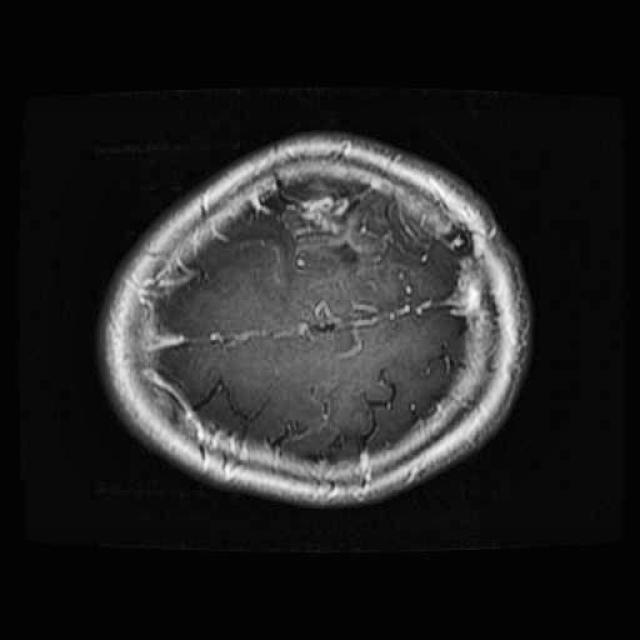Non-Tumor: (271, 165, 435, 282)
